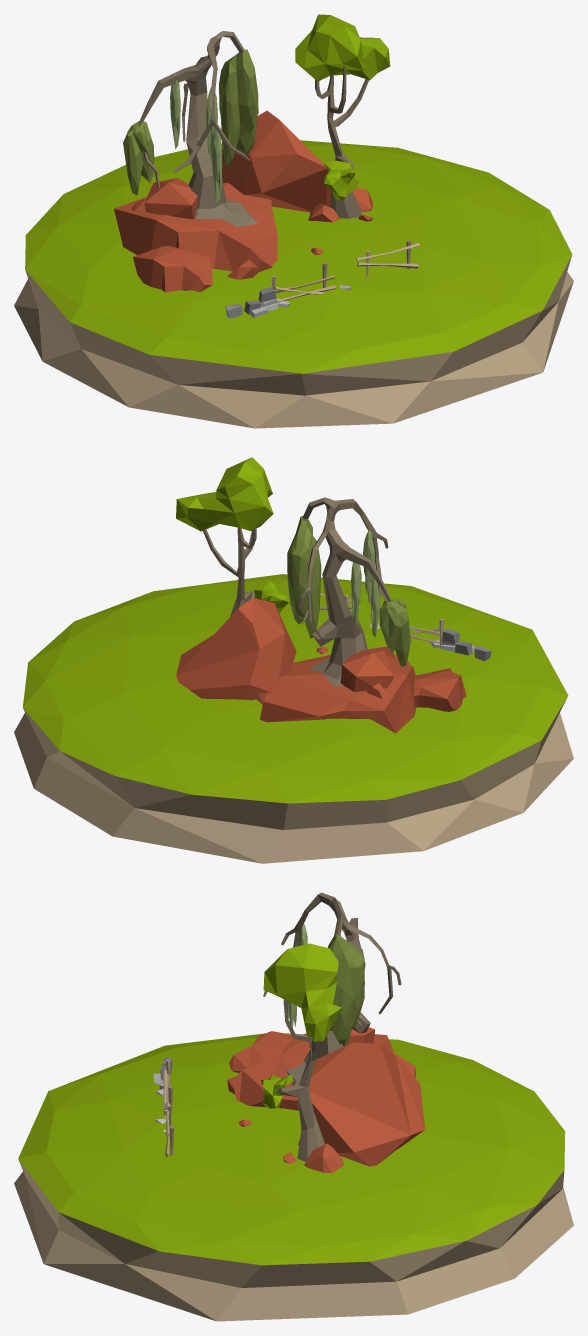
Rendered from low_poly_meadow.glb.
3 views of the same model, one above another, from view 1: azimuth 30°, elevation 25°; view 2: azimuth 150°, elevation 25°; view 3: azimuth 270°, elevation 25° (orthographic).
Parts seen in each view (by area): view 1: SimpleComposition; view 2: SimpleComposition; view 3: SimpleComposition.
Part boxes in pixels (left/top/right/bottom): SimpleComposition: left=14, top=14, right=573, bottom=428; SimpleComposition: left=14, top=457, right=573, bottom=863; SimpleComposition: left=14, top=892, right=573, bottom=1321.
Size of the model in its own units: 6609 by 3677 by 6631.
Materials: 1 (1 with a texture image).
